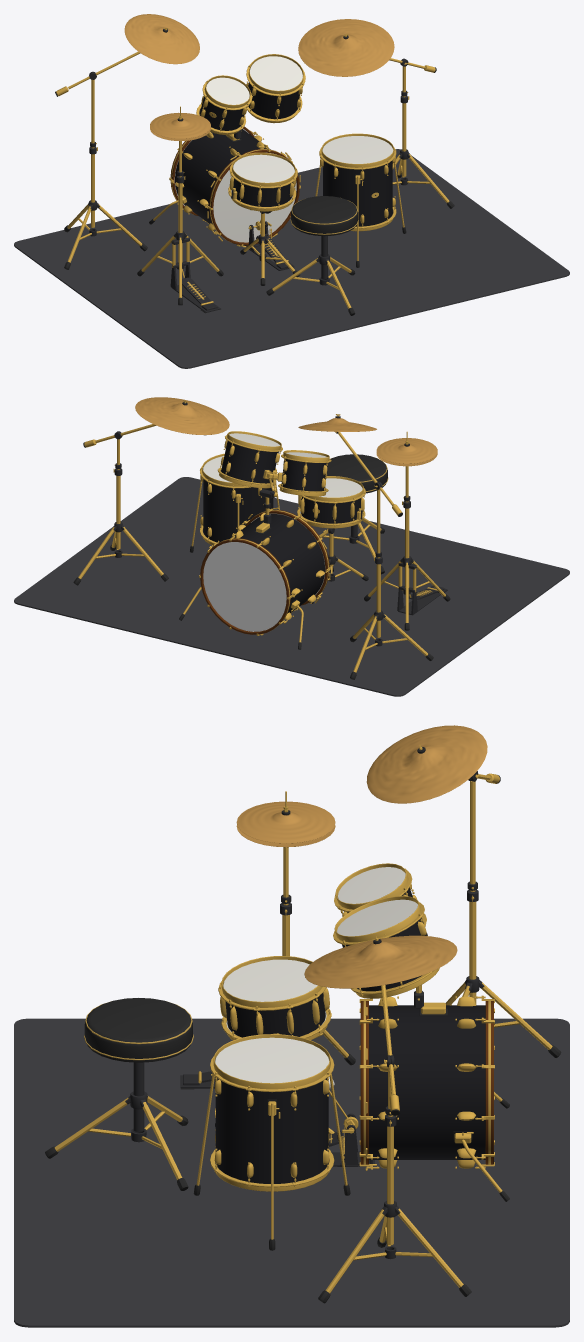
The model's file is BeatDrummer_Sovereign.fbx.
3 renders of one model, top to bottom at view 1: azimuth 30°, elevation 25°; view 2: azimuth 150°, elevation 25°; view 3: azimuth 270°, elevation 25°, orthographic. The views are drawn at different scales.
Visible parts, largest first — view 1: Rug_Rug, RD_Ride_Bronze, BD_Kick_Finish, FT_FloorTom_Finish, CR_Crash_Bronze, Throne_Leather, BD_Kick_HeadCoated, FT_FloorTom_Chrome, FT_FloorTom_HeadCoated, Boom_CR_Chrome, LT_Tom_HeadCoated, SN_Snare_Chrome (+16 smaller); view 2: Rug_Rug, BD_Kick_HeadLogo, BD_Kick_Finish, FT_FloorTom_Finish, RD_Ride_Bronze, Boom_CR_Chrome, BD_Kick_Hoop, LT_Tom_Finish, Throne_Leather, Boom_RD_Chrome, HiHatStand_Chrome, BD_Kick_Chrome (+12 smaller); view 3: Rug_Rug, BD_Kick_Finish, FT_FloorTom_Finish, CR_Crash_Bronze, RD_Ride_Bronze, Throne_Leather, FT_FloorTom_Chrome, FT_FloorTom_HeadCoated, BD_Kick_Chrome, HH_Top_Bronze, Boom_RD_Chrome, SN_Snare_HeadCoated (+13 smaller).
Boxes of the visible parts, x1,y1,x2,y2 form: Rug_Rug: [14, 149, 569, 368]; RD_Ride_Bronze: [298, 19, 394, 76]; BD_Kick_Finish: [175, 129, 270, 224]; FT_FloorTom_Finish: [323, 160, 392, 226]; CR_Crash_Bronze: [124, 14, 199, 64]; Throne_Leather: [291, 196, 358, 236]; BD_Kick_HeadCoated: [213, 152, 296, 242]; FT_FloorTom_Chrome: [315, 133, 404, 260]; FT_FloorTom_HeadCoated: [322, 136, 393, 163]; Boom_CR_Chrome: [56, 28, 168, 262]; LT_Tom_HeadCoated: [249, 56, 302, 90]; SN_Snare_Chrome: [228, 152, 297, 211]; Rug_Rug: [14, 477, 569, 696]; BD_Kick_HeadLogo: [203, 542, 286, 631]; BD_Kick_Finish: [229, 514, 324, 613]; FT_FloorTom_Finish: [203, 479, 273, 542]; RD_Ride_Bronze: [135, 397, 229, 435]; Boom_CR_Chrome: [334, 414, 427, 672]; BD_Kick_Hoop: [200, 510, 329, 634]; LT_Tom_Finish: [221, 441, 278, 483]; Throne_Leather: [327, 454, 387, 493]; Boom_RD_Chrome: [78, 400, 187, 578]; HiHatStand_Chrome: [368, 431, 445, 622]; BD_Kick_Chrome: [183, 507, 330, 642]; Rug_Rug: [14, 1018, 569, 1327]; BD_Kick_Finish: [369, 1005, 485, 1159]; FT_FloorTom_Finish: [215, 1078, 328, 1183]; CR_Crash_Bronze: [366, 725, 487, 803]; RD_Ride_Bronze: [304, 935, 457, 988]; Throne_Leather: [84, 998, 192, 1062]; FT_FloorTom_Chrome: [196, 1034, 347, 1239]; FT_FloorTom_HeadCoated: [215, 1037, 329, 1083]; BD_Kick_Chrome: [359, 995, 502, 1192]; HH_Top_Bronze: [236, 801, 335, 843]; Boom_RD_Chrome: [325, 936, 463, 1293]; SN_Snare_HeadCoated: [223, 959, 317, 1001].
Size of the model in its own units: 9.34 by 5.12 by 7.15.
